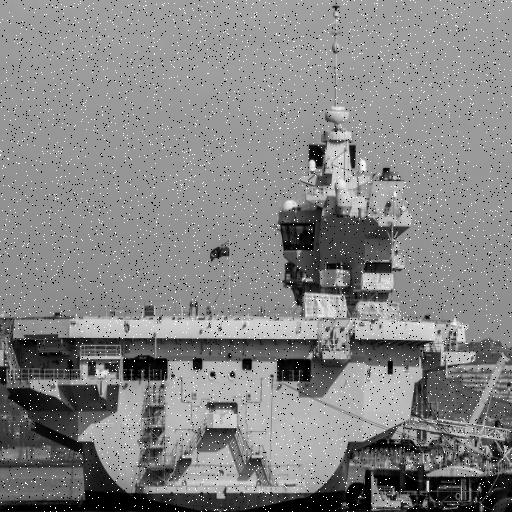Portanaves: (1, 1, 476, 512)
